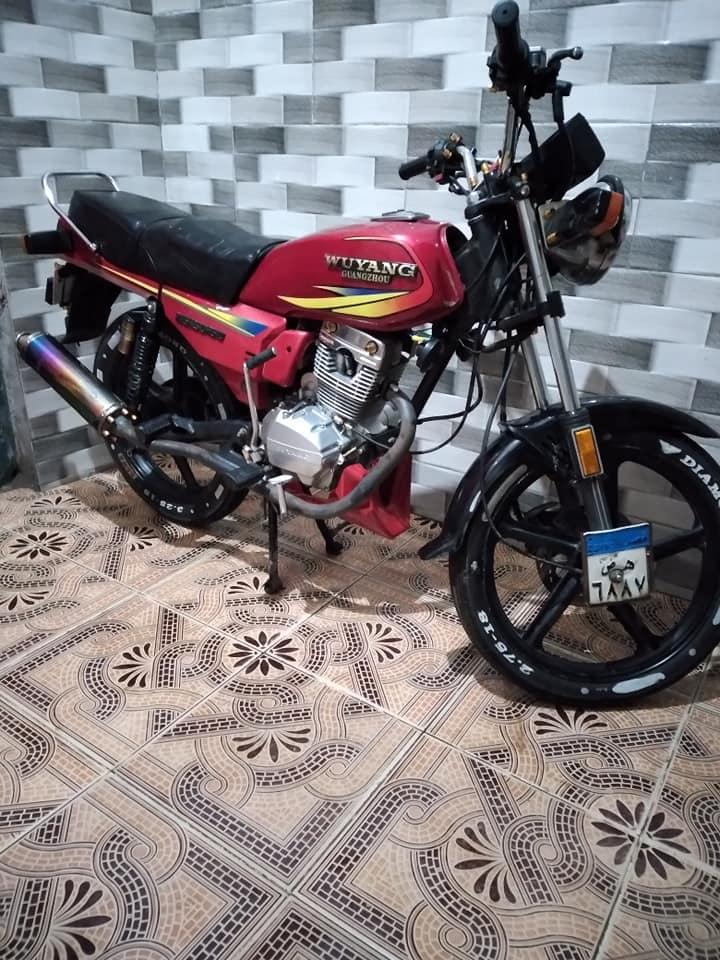License Plate: (582, 526, 655, 603)
